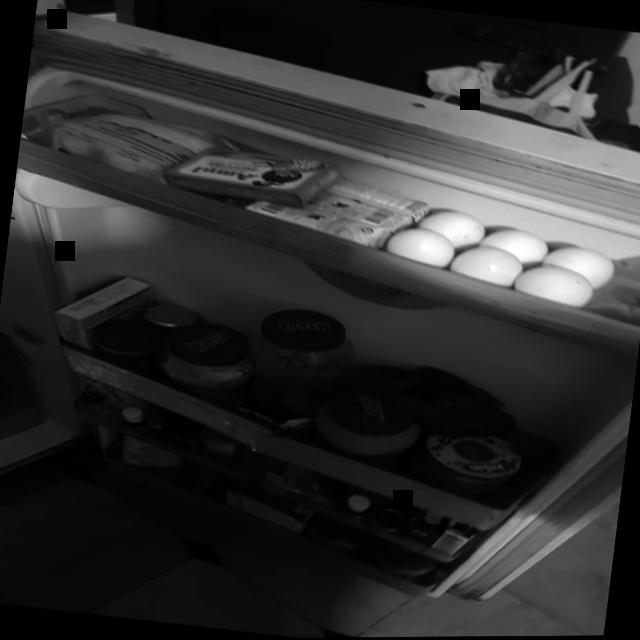butter: (159, 135, 350, 212)
eggs: (513, 257, 596, 323), (446, 242, 525, 297), (378, 222, 457, 275), (546, 238, 620, 292), (477, 222, 552, 268), (417, 204, 489, 249)
